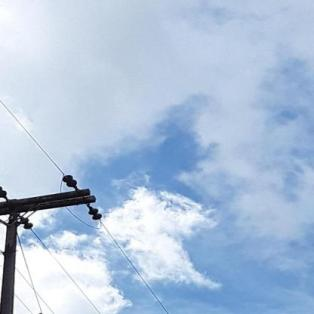Poste: (0, 187, 42, 314)
